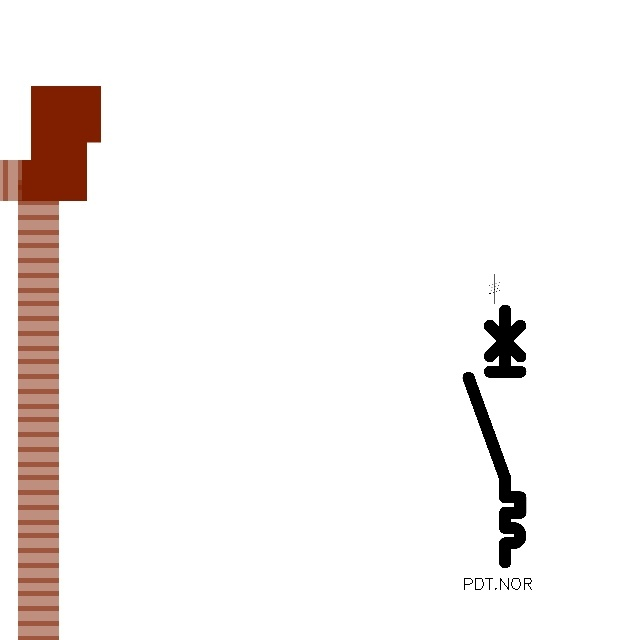interruptor_termomagnetico: (462, 304, 527, 569)
